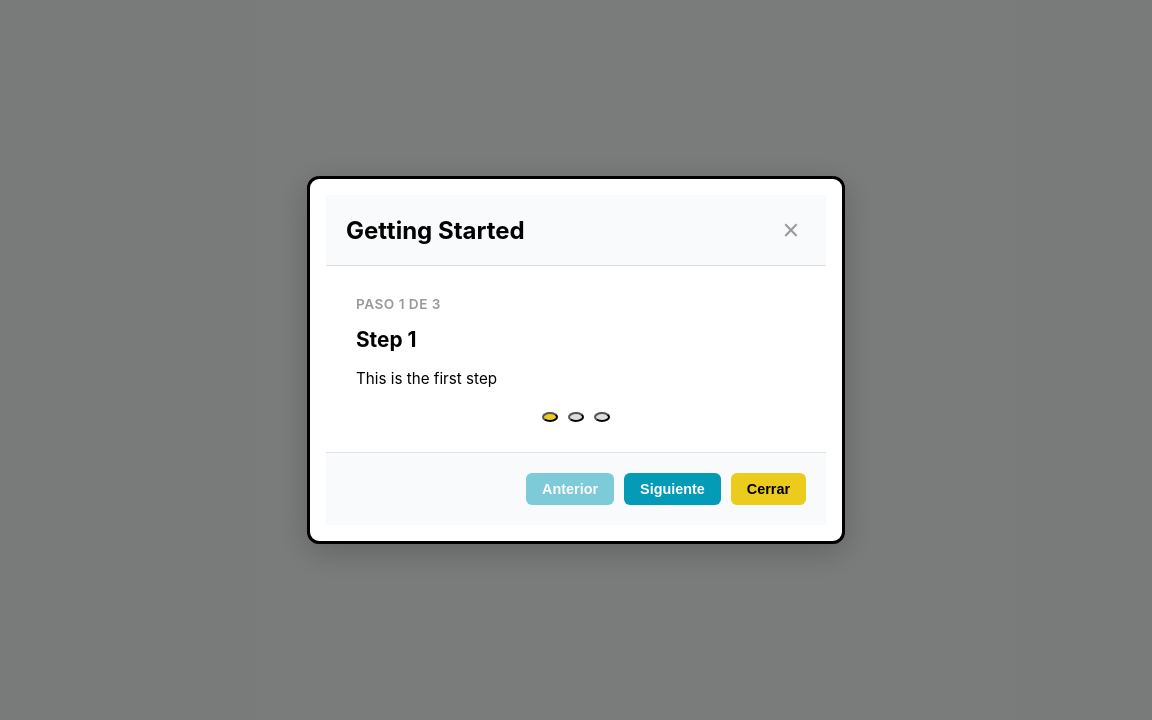
Scenario: HelpModal › next button is disabled on last step
The image size is (1152, 720).
Note: Click next twice to reach the last step (step 3)
Click the button "Siguiente": (672, 489) [624,473,721,505]
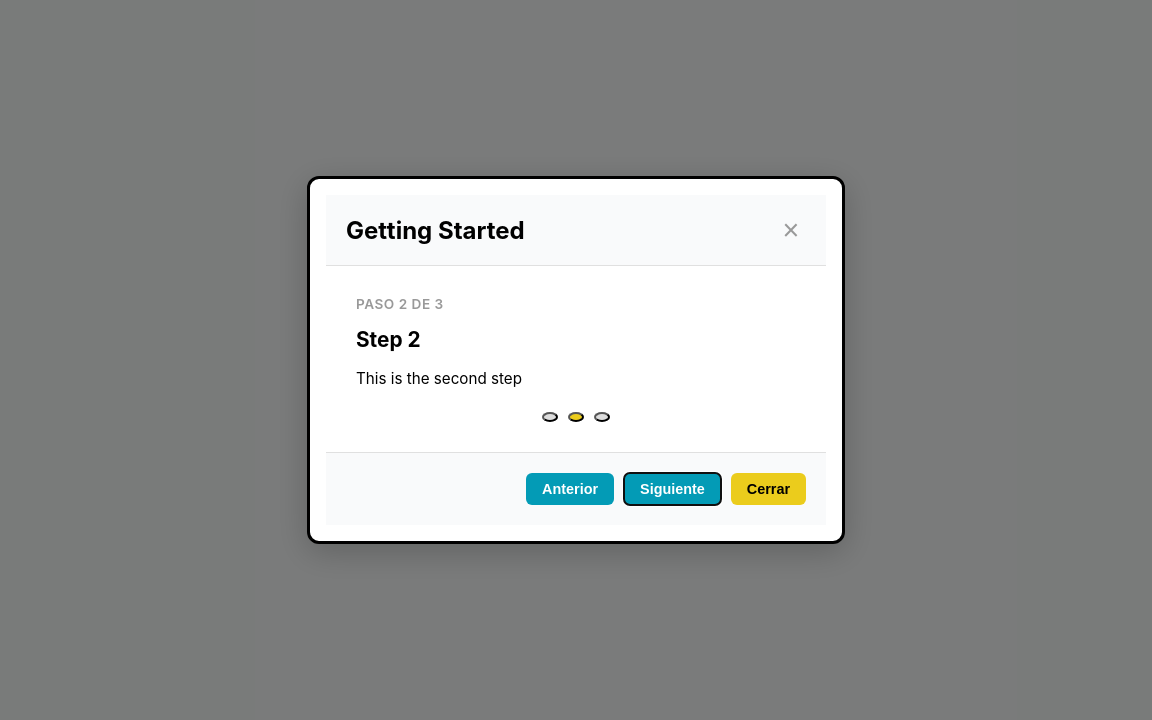
Click the button "Siguiente": (672, 489) [624,473,721,505]
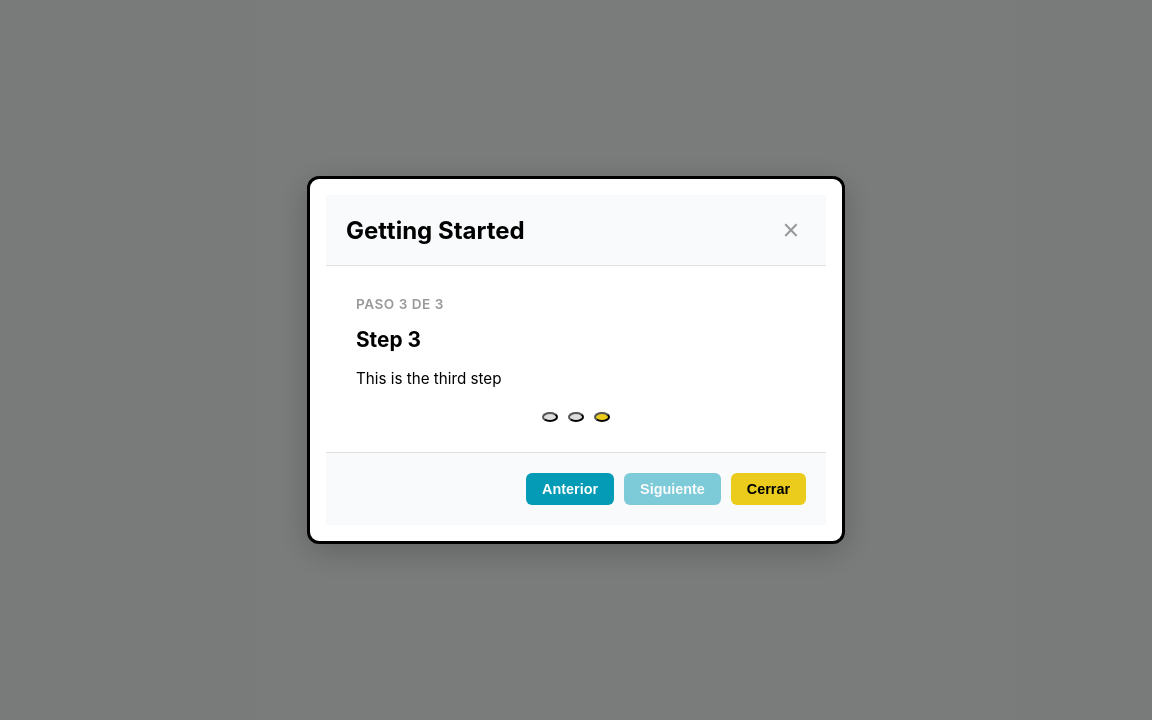
Now the button "Siguiente" is disabled, box [624,473,721,505]
